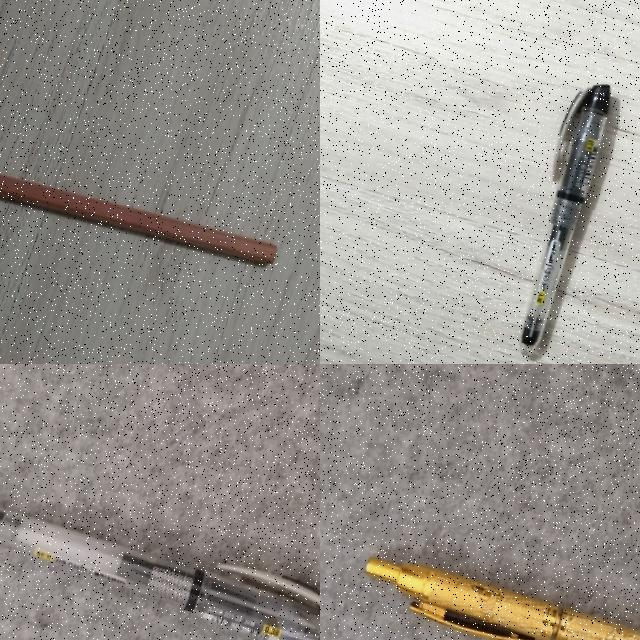pen: (0, 510, 319, 639), (521, 85, 610, 354)
pencil: (0, 176, 276, 264)
signature pen: (366, 558, 639, 639)
